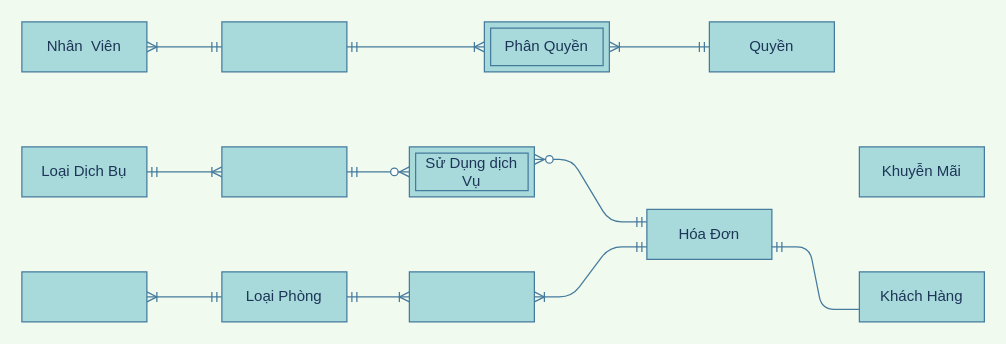
This 1006x344 diagram has some shape labels left out. The box of each missing label's shape, as (x1, y1, x2, y2) in pixels:
Dịch Vụ: (221, 146, 347, 197)
Nhóm Quyền: (221, 21, 347, 72)
Phòng: (408, 271, 534, 322)
Thiết Bị: (21, 271, 147, 322)
